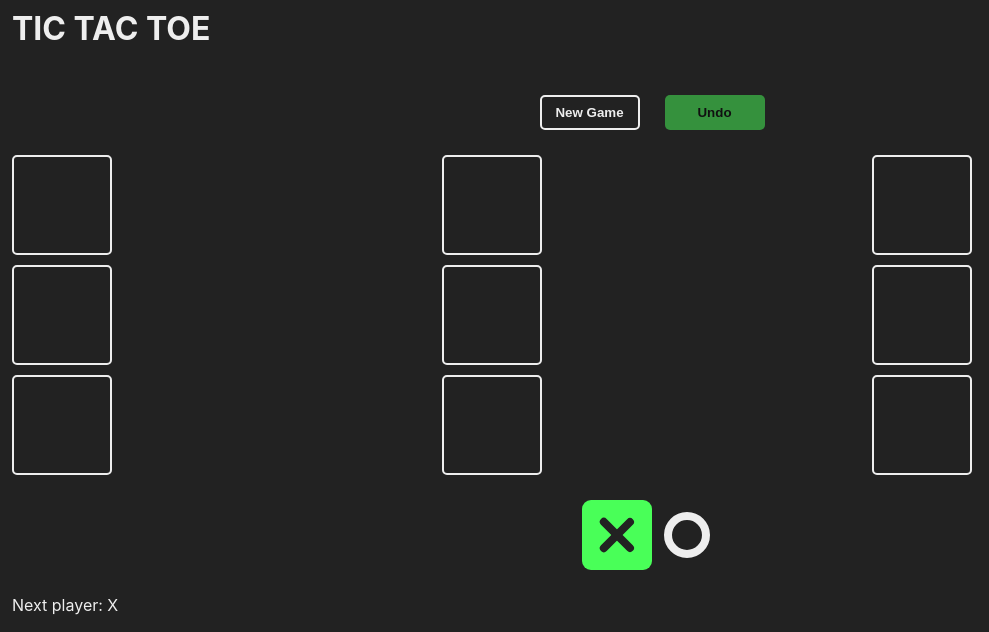
Test: handles undoing a move
The image size is (989, 632).
Click the element with test id "square-0": (62, 205) [12, 155, 112, 255]
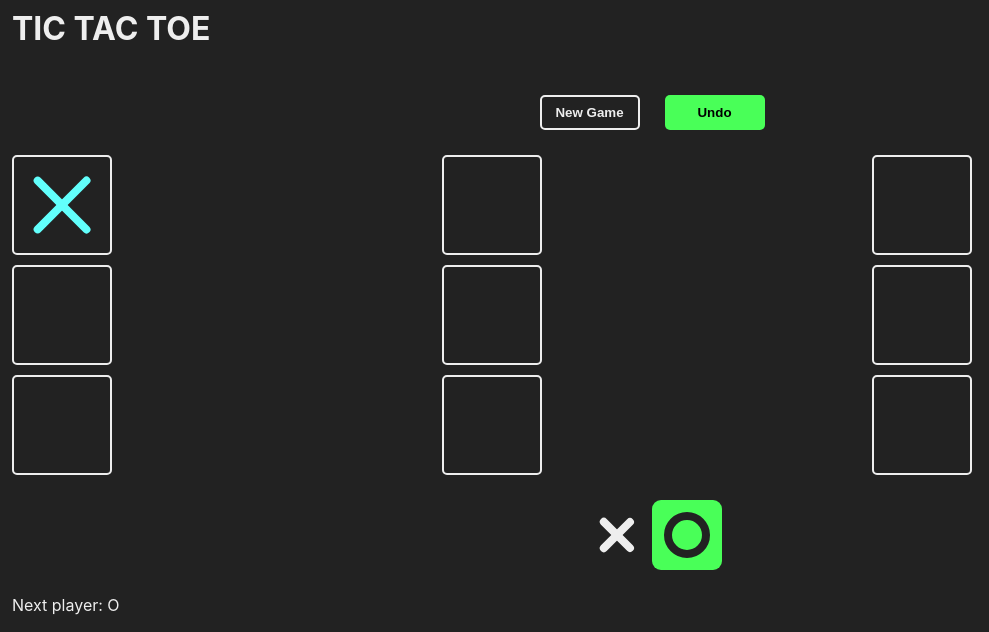
Click the button "Undo": (714, 112) [664, 95, 764, 130]
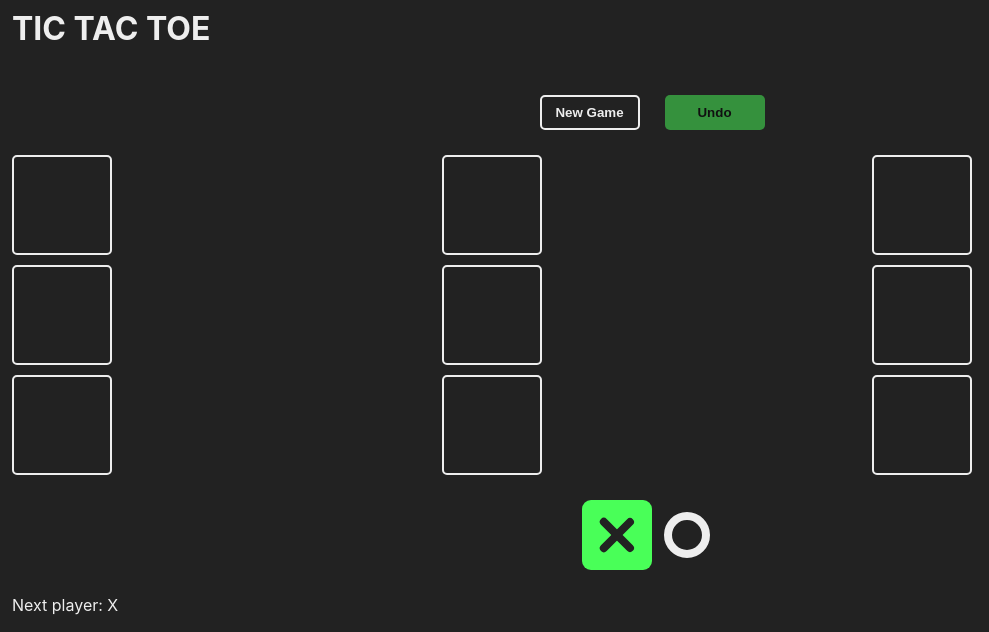
Check: the text "Next player: X" is shown, box [12, 595, 118, 615]
